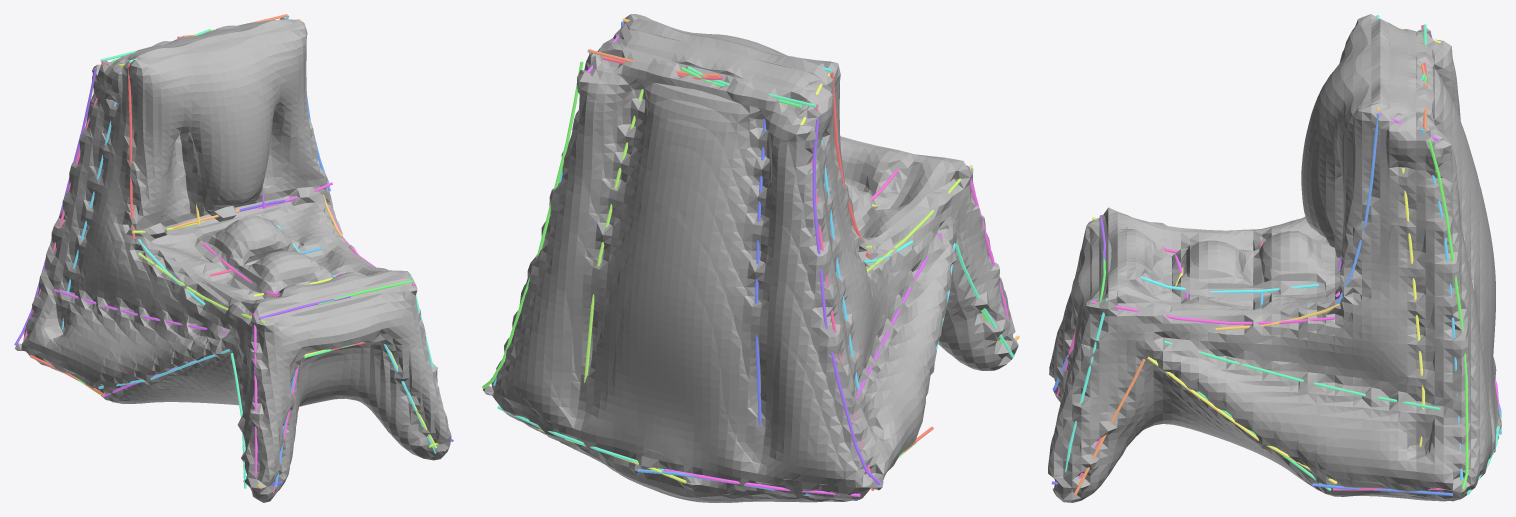
Rendered from author1_chair_ff.gltf.
3 views of the same model, side by side, from view 1: azimuth 30°, elevation 25°; view 2: azimuth 150°, elevation 25°; view 3: azimuth 270°, elevation 25° (orthographic). The views are drawn at different scales.
Size of the model in its own units: 0.5778 by 0.592 by 0.6067.
